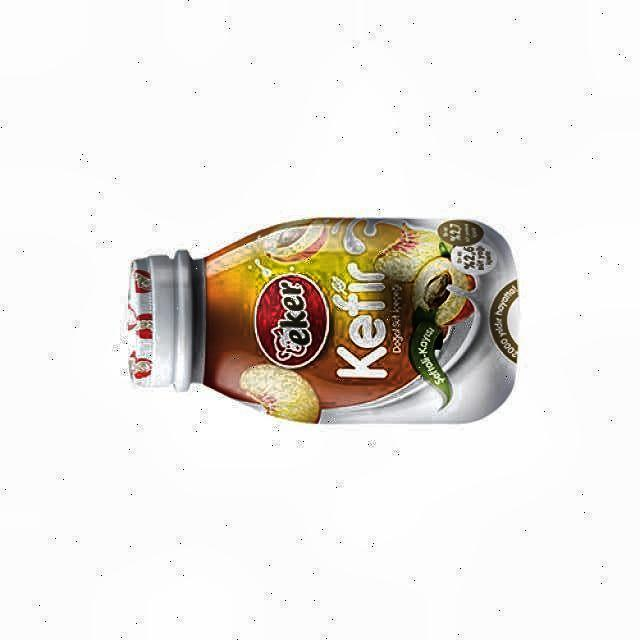plastic: (128, 219, 519, 423)
